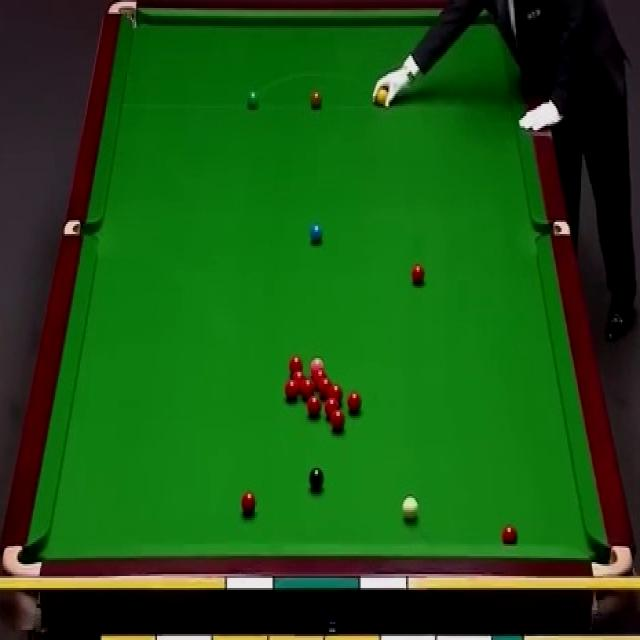pocket: (1, 540, 45, 585), (589, 543, 635, 585), (110, 0, 139, 32), (538, 218, 572, 238), (67, 220, 103, 235)
